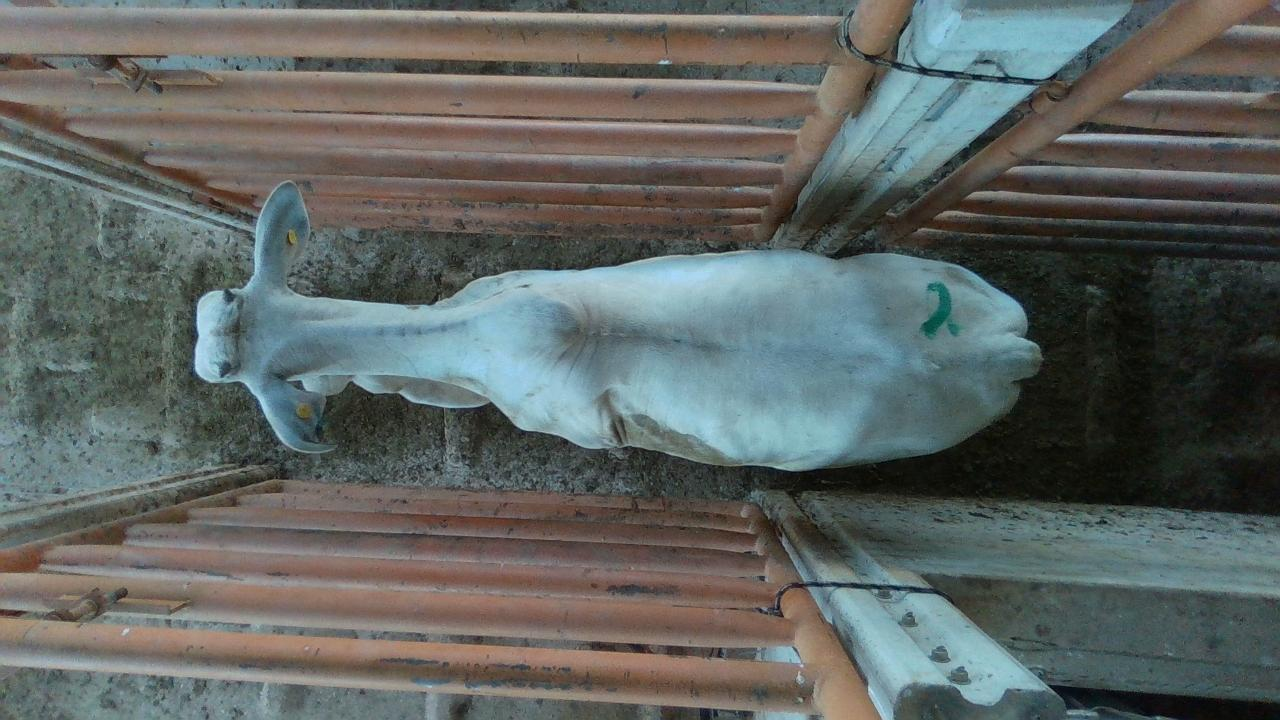cattle: (191, 178, 1043, 472)
